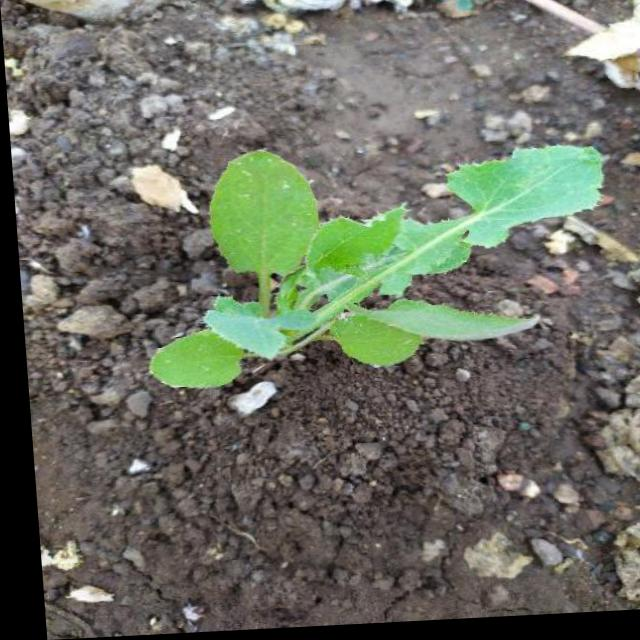weed: (124, 113, 615, 420)
